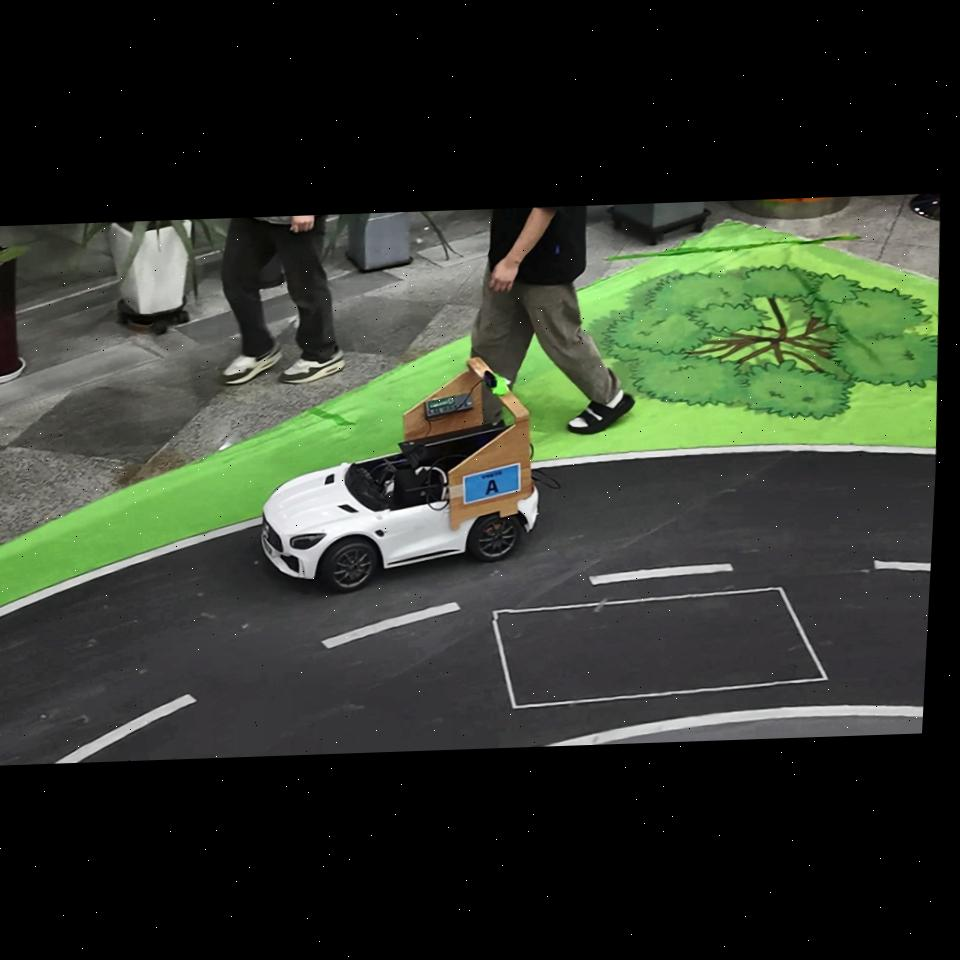broken_line: (55, 694, 197, 763), (321, 602, 461, 648), (589, 564, 733, 585), (874, 560, 931, 571)
